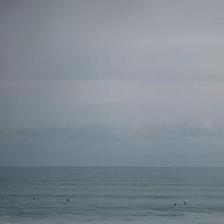surfer: (34, 195, 38, 200), (183, 201, 186, 205), (67, 198, 70, 201), (174, 203, 176, 205)
